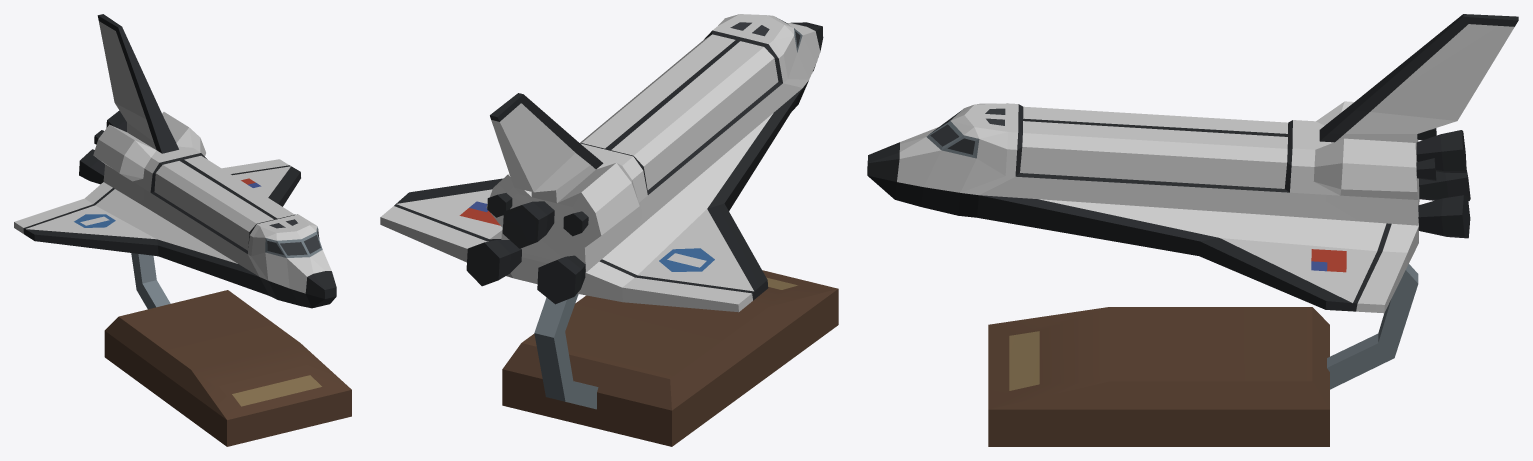
Rendered from SM_Prop_Spaceship_01.glb.
3 views of the same model, side by side, from view 1: azimuth 30°, elevation 25°; view 2: azimuth 150°, elevation 25°; view 3: azimuth 270°, elevation 25° (orthographic). The views are drawn at different scales.
Visible parts, largest first — view 1: SM_Prop_Spaceship_01; view 2: SM_Prop_Spaceship_01; view 3: SM_Prop_Spaceship_01.
Part boxes in pixels (x1=…): SM_Prop_Spaceship_01: x1=14, y1=14, x2=351, y2=446; SM_Prop_Spaceship_01: x1=380, y1=14, x2=838, y2=446; SM_Prop_Spaceship_01: x1=867, y1=14, x2=1518, y2=446.
Bounding box in the file's own units: 0.2484 × 0.25 × 0.3786.
1 material, 1 textured.
